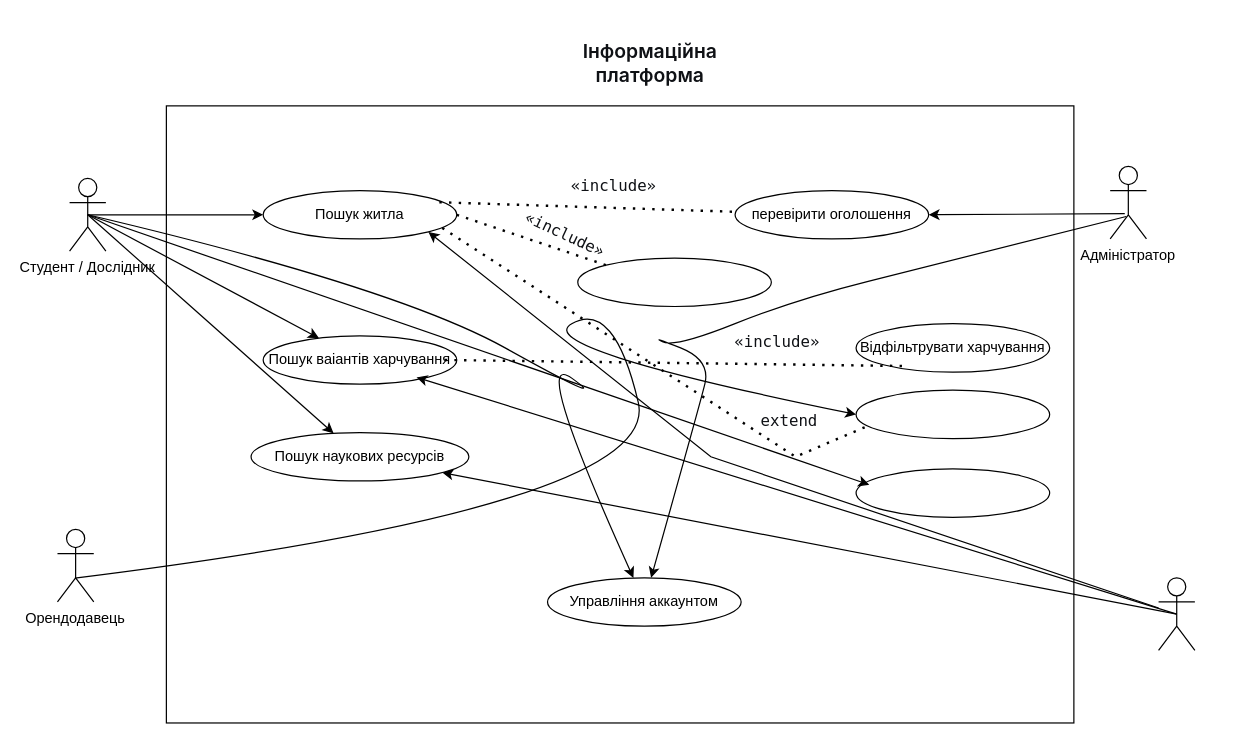
Some shapes in this 1255 by 744 pixel diagram are drawn without their labels. The shapes that lost their labels are listed below. From the top down, each one's box as (x1, y1, x2, y2) in pixels, then its label:
(577, 257, 771, 306): Відфільтрувати житло
(855, 389, 1050, 439): Зв'язатися з орендодавцем
(855, 468, 1050, 517): Сповіщати про подіі
(1157, 577, 1195, 650): Зовнішні сервіси OLX, Glovo
